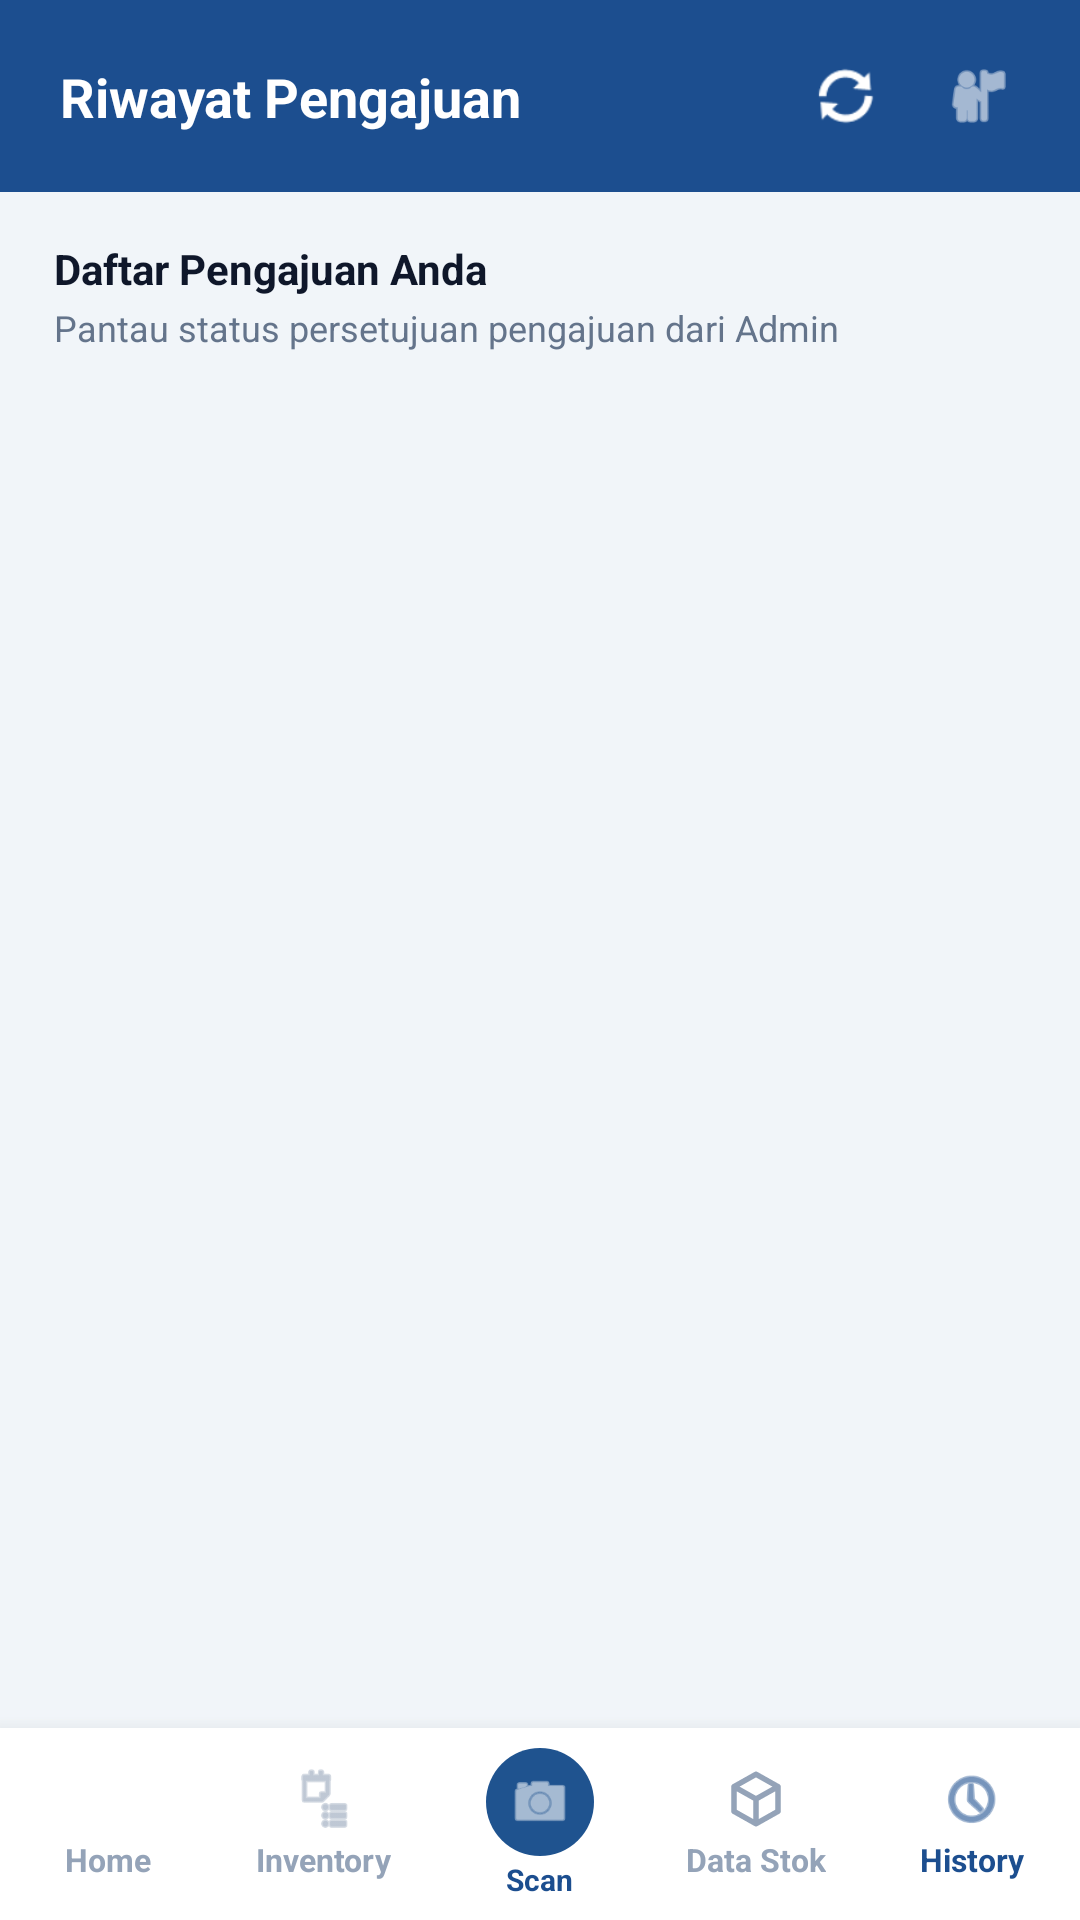

Named icons in this screenshot (1080*1920) and their bounding boxes, (x1, y1, x2, y2):
agenda: (301, 1769, 347, 1828)
camera: (486, 1748, 594, 1856)
popup sync: (818, 69, 873, 123)
